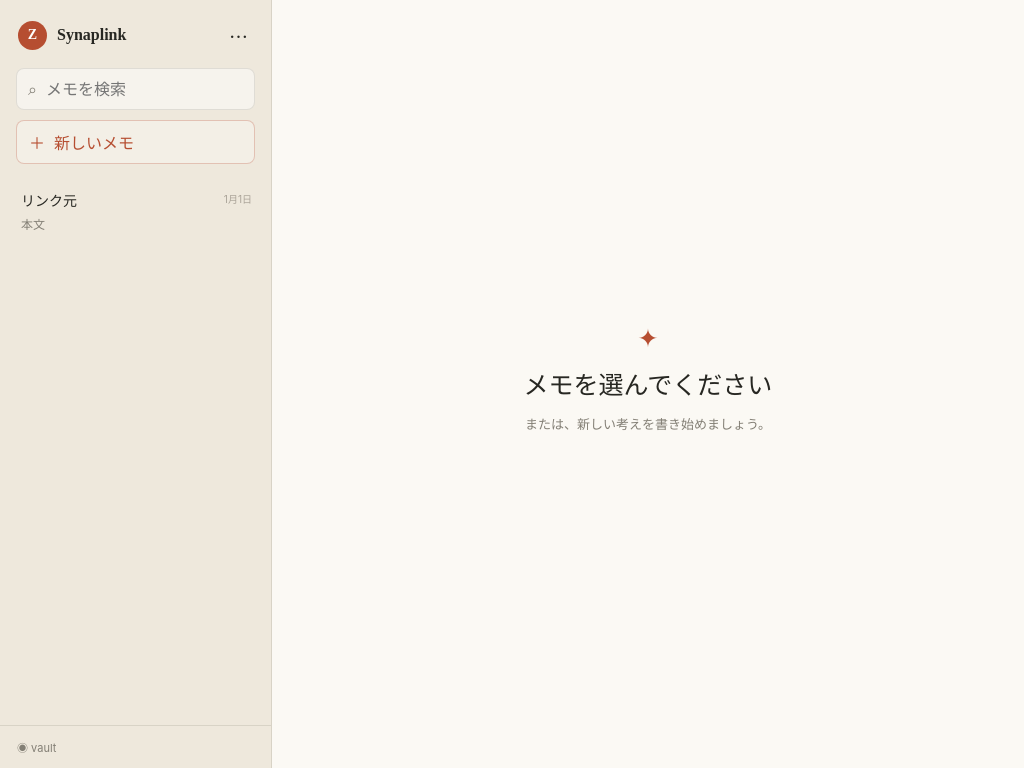
App › 一致する概要がない場合は検索語と現在のメモを維持する
This screenshot has width=1024, height=768.
Click the button "リンク元" at (136, 211), box x1=9 y1=176 x2=262 y2=246
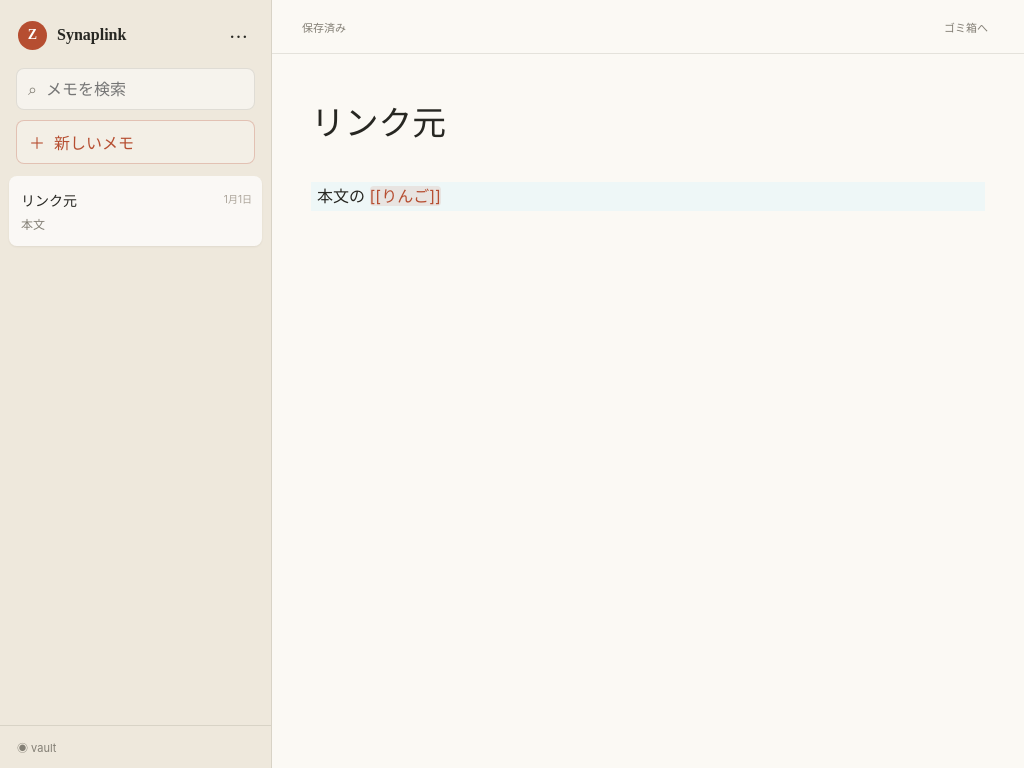
Expected: the field showing "リンク元" is shown, x1=307 y1=102 x2=989 y2=162
Click the text box with class "cm-wikilink" at (405, 196), box x1=370 y1=186 x2=441 y2=206
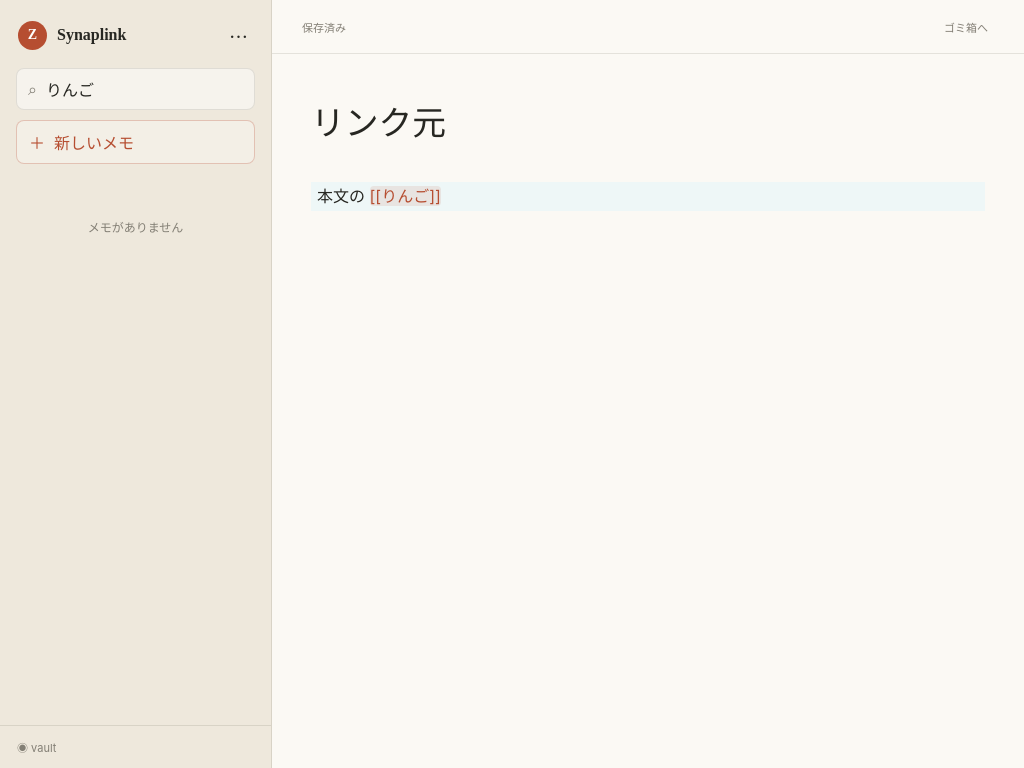
Expected: the field showing "リンク元" is shown, x1=307 y1=102 x2=989 y2=162
Expected: the field with placeholder "メモを検索" holds "りんご", x1=44 y1=78 x2=243 y2=100
Expected: the text "メモがありません" is shown, x1=88 y1=220 x2=183 y2=235
